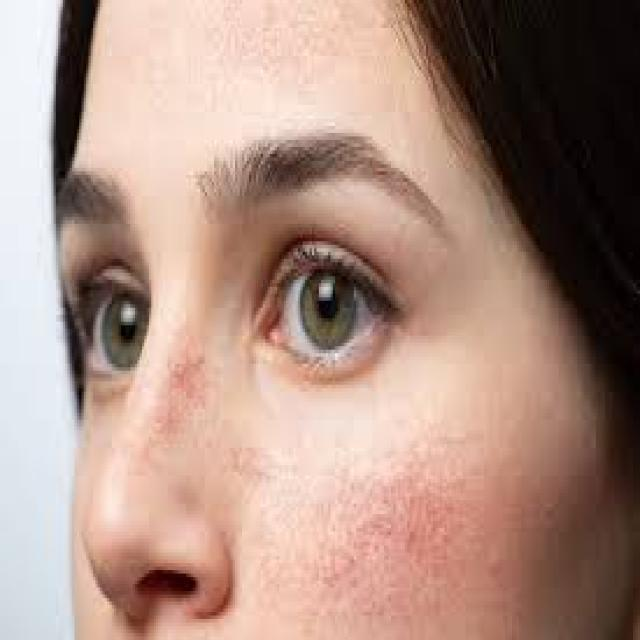Rosacea: (230, 440, 511, 630), (137, 352, 206, 442)
